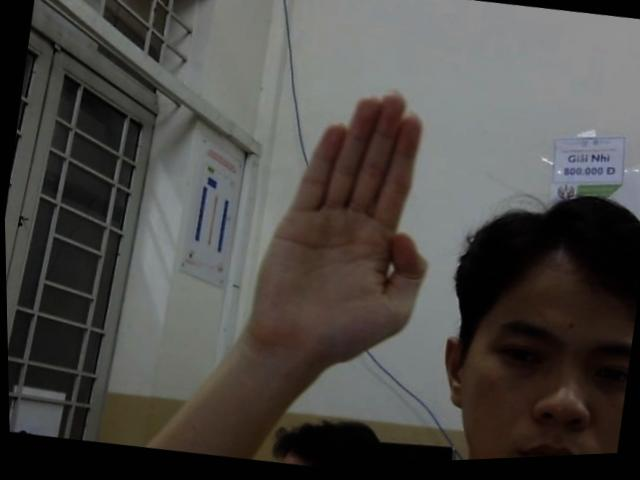B: (229, 65, 497, 387)
